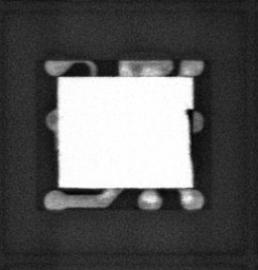DIE_BROKEN: (185, 107, 195, 164)
